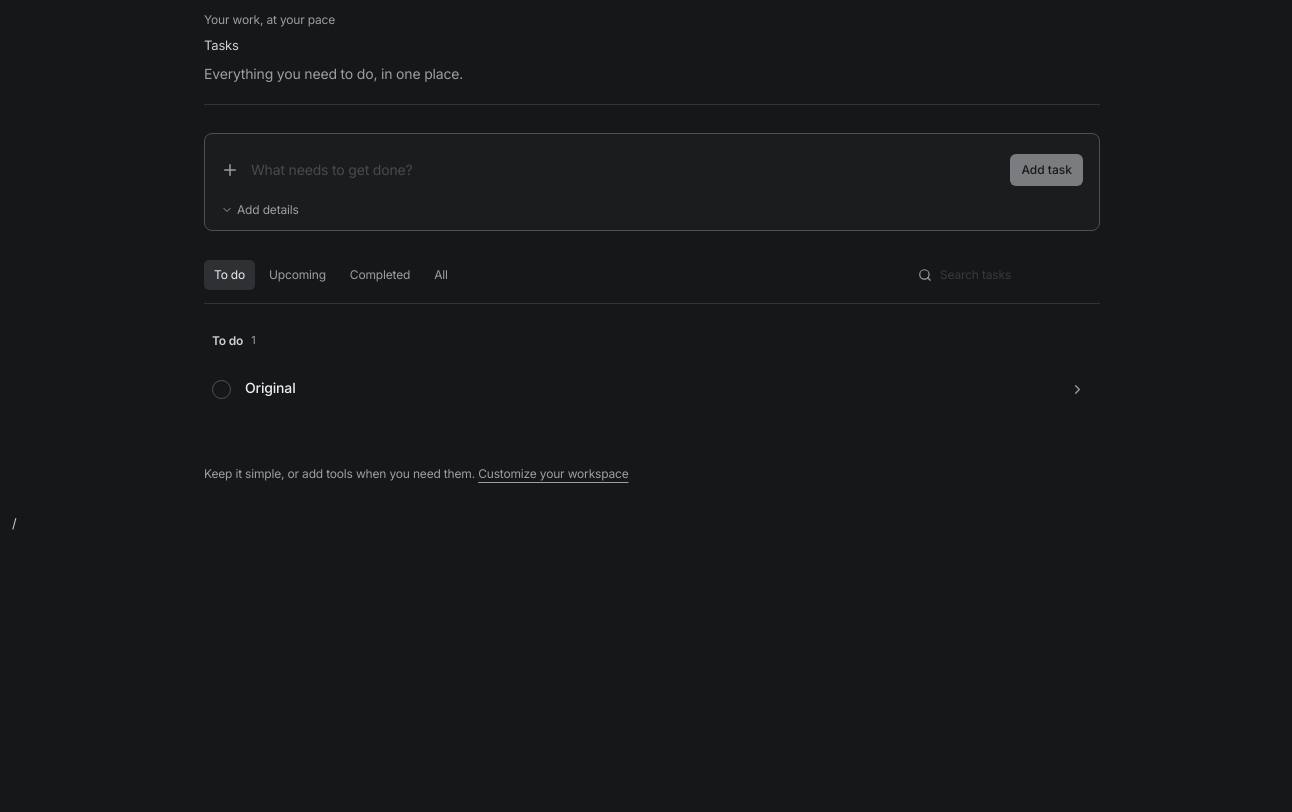
Essentials task experience › edits basic details without resetting Developer metadata
Click the button named "Edit Original" at (1077, 390), box left=1062, top=374, right=1092, bottom=404
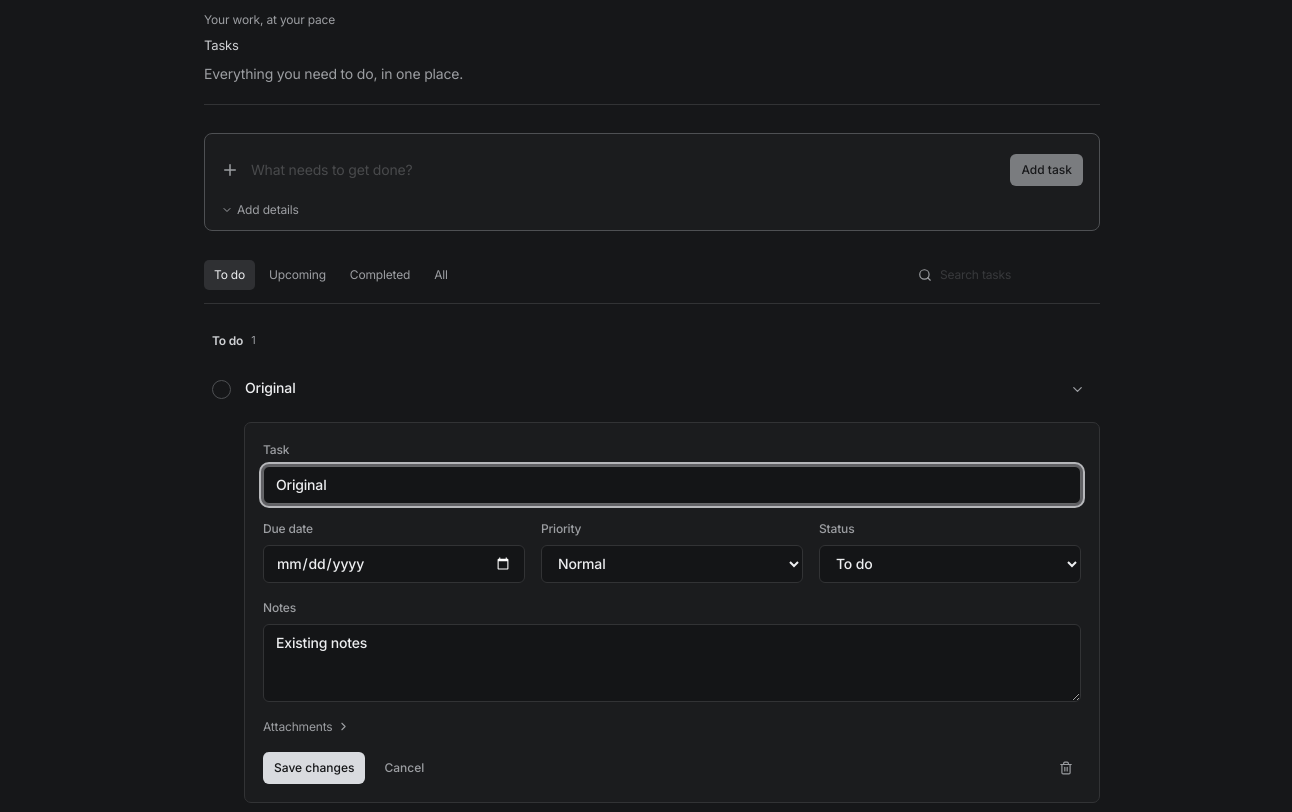
Replace the text in the field labelled "Task" with "Renamed" at (672, 484), box left=263, top=466, right=1081, bottom=504
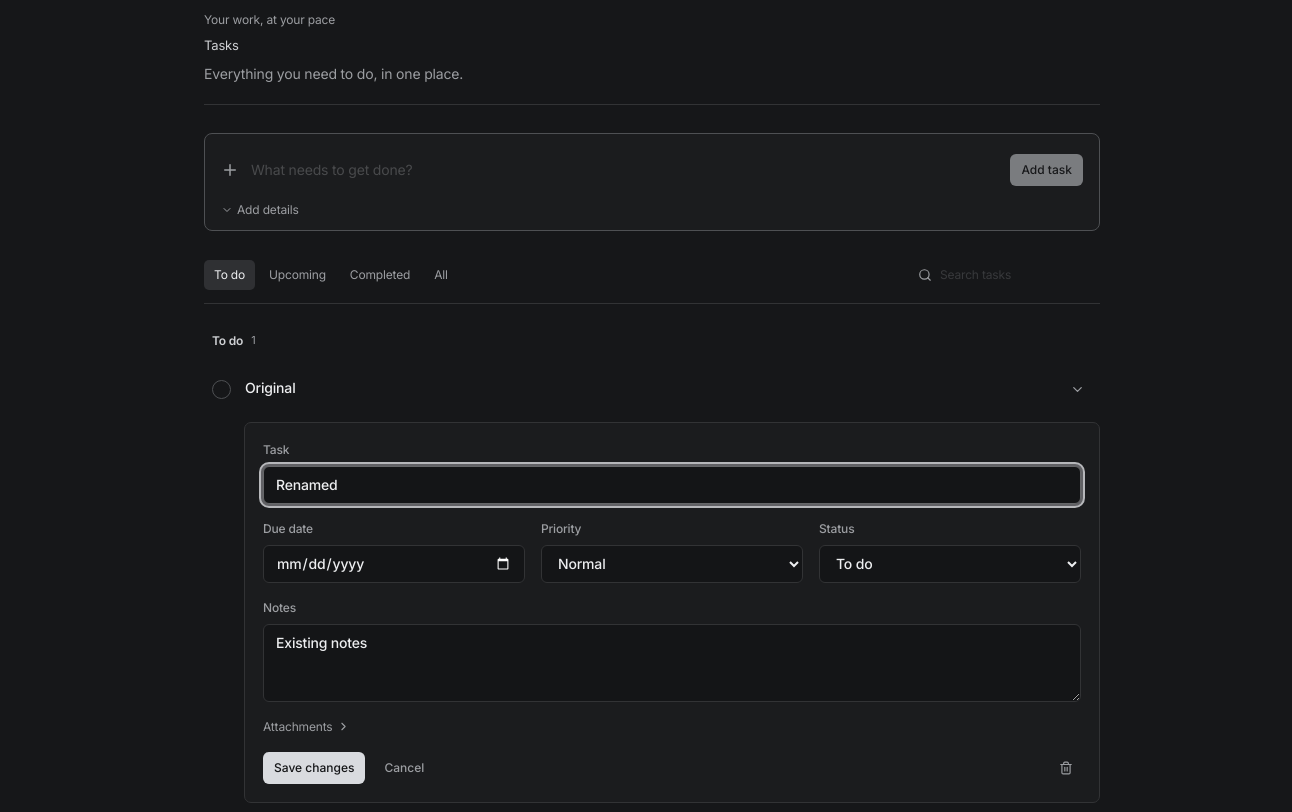
Click the button "Save changes" at (314, 768), box left=263, top=752, right=365, bottom=784
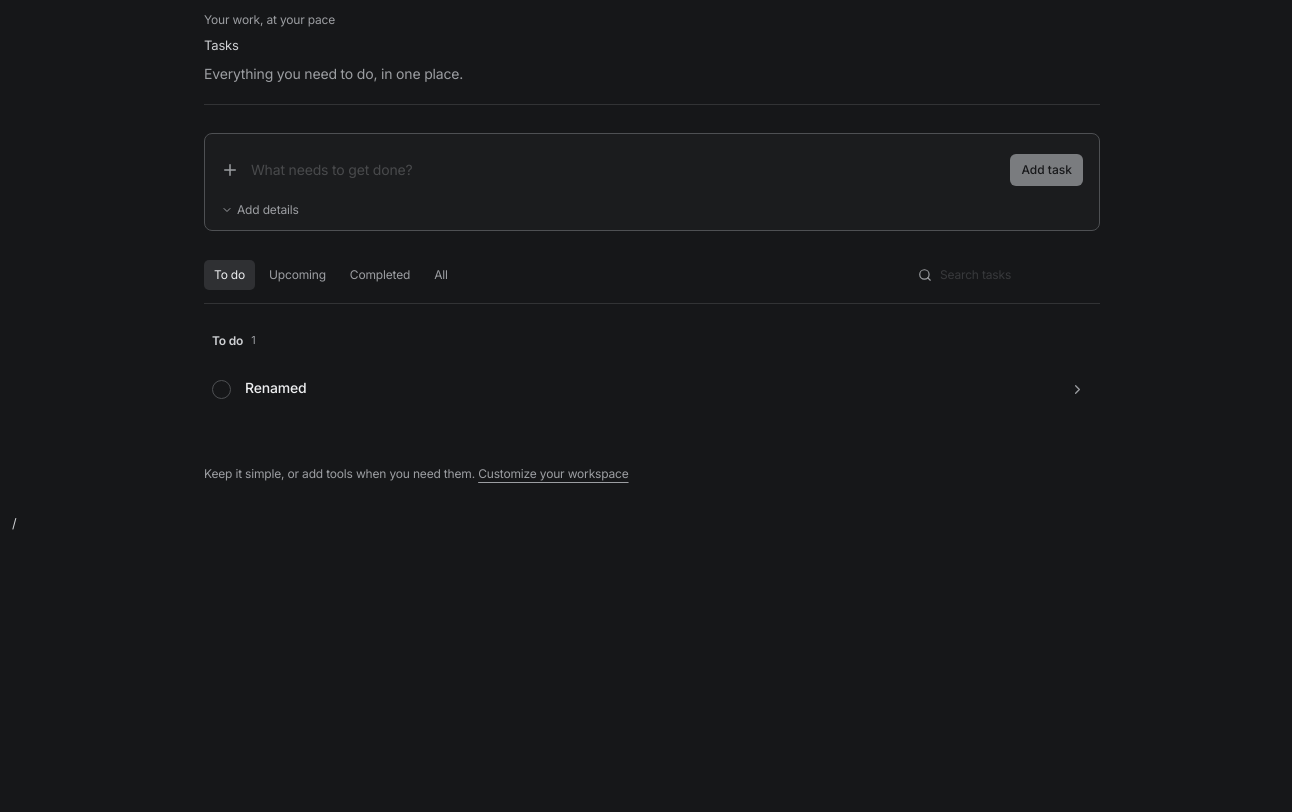
Expected: the text "Renamed" is shown, left=245, top=378, right=307, bottom=396
